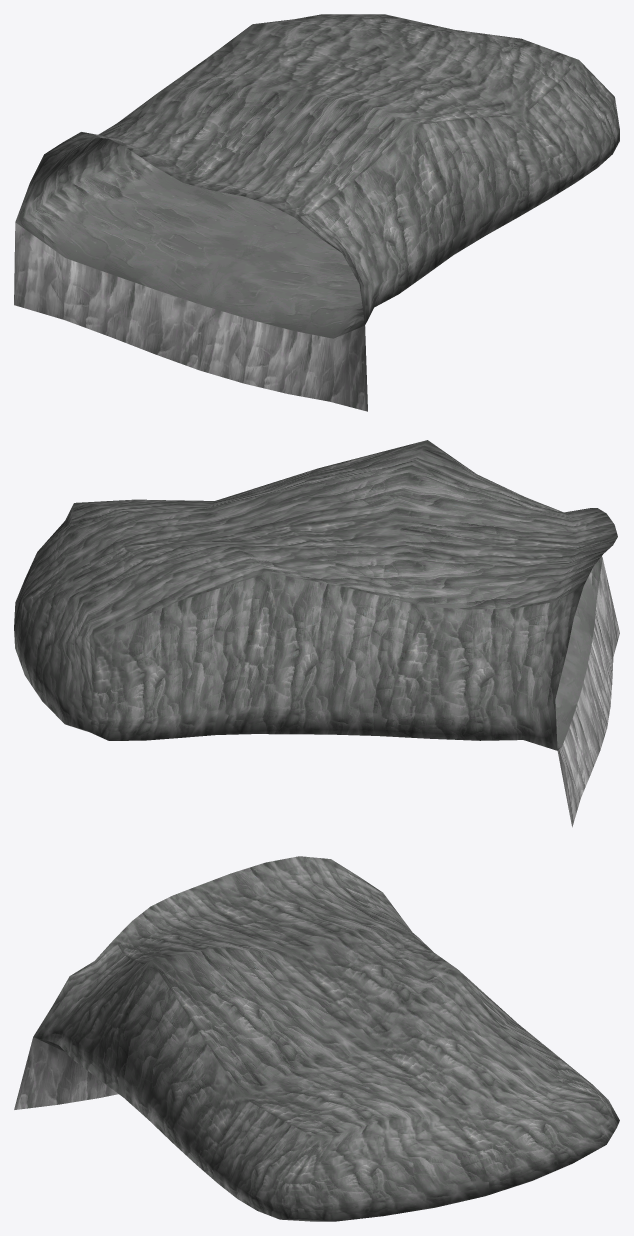
File: SWORDLIGHT20_PS-AREA03_09.fbx
The picture shows the model from 3 angles, top to bottom: view 1: azimuth 30°, elevation 25°; view 2: azimuth 150°, elevation 25°; view 3: azimuth 270°, elevation 25°; orthographic projection. The views are drawn at different scales.
Parts seen in each view (by area): view 1: SWORDLIGHT20_PS-AREA03_09; view 2: SWORDLIGHT20_PS-AREA03_09; view 3: SWORDLIGHT20_PS-AREA03_09.
Part boxes in pixels (left/top/right/bottom): SWORDLIGHT20_PS-AREA03_09: left=14, top=14, right=619, bottom=411; SWORDLIGHT20_PS-AREA03_09: left=14, top=440, right=619, bottom=827; SWORDLIGHT20_PS-AREA03_09: left=14, top=856, right=619, bottom=1221.
Size of the model in its own units: 169510 by 64426 by 164966.
5 materials, 5 textured.
